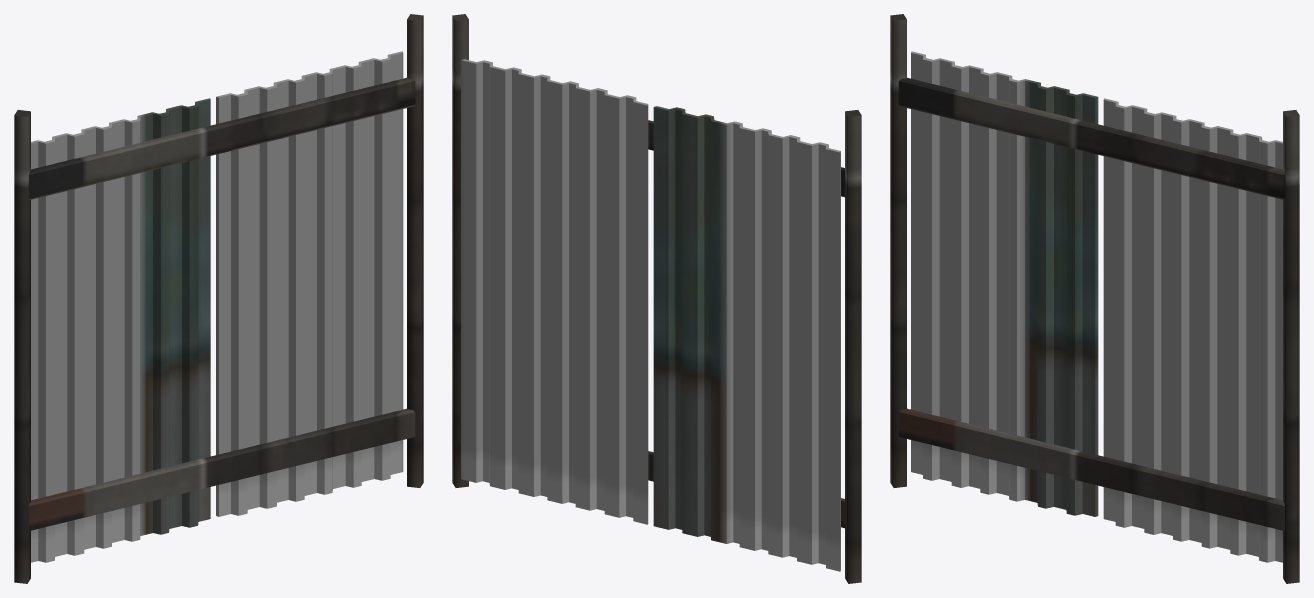
Rendered from bz_fence_profile_04.fbx.
3 renders of one model, left to right at view 1: azimuth 30°, elevation 25°; view 2: azimuth 150°, elevation 25°; view 3: azimuth 330°, elevation 25°, orthographic.
Visible parts, largest first — view 1: bz_fence_profile_005, bz_fence_profile_010, bz_fence_profile_004, bz_fence_profile_003, bz_fence_profile_002, bz_fence_profile_001; view 2: bz_fence_profile_005, bz_fence_profile_010, bz_fence_profile_002, bz_fence_profile_001; view 3: bz_fence_profile_010, bz_fence_profile_005, bz_fence_profile_003, bz_fence_profile_004, bz_fence_profile_001, bz_fence_profile_002.
Part boxes in pixels (x1,y1,x2,y2): bz_fence_profile_005: (216, 51, 403, 516); bz_fence_profile_010: (31, 98, 210, 562); bz_fence_profile_004: (29, 408, 415, 530); bz_fence_profile_003: (29, 77, 415, 199); bz_fence_profile_002: (14, 110, 30, 583); bz_fence_profile_001: (407, 14, 423, 487); bz_fence_profile_005: (461, 59, 648, 524); bz_fence_profile_010: (653, 106, 840, 571); bz_fence_profile_002: (845, 110, 861, 583); bz_fence_profile_001: (452, 14, 468, 487); bz_fence_profile_010: (911, 51, 1098, 516); bz_fence_profile_005: (1103, 98, 1282, 562); bz_fence_profile_003: (898, 77, 1284, 199); bz_fence_profile_004: (898, 408, 1284, 530); bz_fence_profile_001: (1283, 110, 1299, 583); bz_fence_profile_002: (890, 14, 906, 487).
Bounding box in the file's own units: 1.94 × 2.12 × 0.09.
